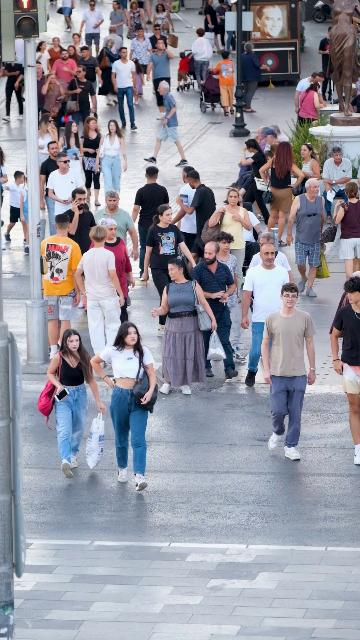person: (91, 322, 158, 491), (260, 283, 317, 460), (150, 257, 219, 395), (45, 329, 106, 479), (240, 241, 294, 386), (188, 241, 239, 379), (143, 203, 195, 337), (74, 226, 126, 354), (40, 215, 82, 358), (329, 278, 360, 465), (207, 187, 253, 304), (285, 178, 326, 299), (89, 218, 135, 325), (259, 141, 305, 247), (131, 166, 170, 282), (172, 171, 216, 265), (144, 81, 188, 167), (92, 190, 138, 262), (46, 152, 85, 236), (329, 181, 360, 281), (239, 138, 271, 223), (321, 146, 353, 224), (329, 271, 360, 350), (94, 119, 127, 193), (39, 141, 70, 217), (146, 40, 175, 120), (61, 187, 96, 253), (249, 232, 293, 284), (111, 47, 137, 131), (80, 116, 103, 206), (242, 42, 271, 113), (58, 120, 86, 190), (66, 65, 97, 126), (212, 231, 241, 296), (77, 46, 103, 118), (174, 166, 197, 247), (1, 171, 27, 242), (294, 71, 326, 126), (130, 26, 152, 105), (37, 113, 60, 181), (97, 39, 120, 106), (212, 51, 235, 117), (78, 0, 104, 58), (0, 61, 25, 121), (42, 73, 68, 130), (125, 1, 148, 56), (191, 28, 214, 82), (298, 81, 326, 124), (297, 142, 322, 188), (318, 26, 332, 103), (99, 25, 123, 67), (51, 49, 78, 86), (150, 4, 174, 43), (36, 63, 49, 127), (109, 0, 129, 39), (254, 127, 281, 154), (176, 52, 194, 92), (148, 23, 169, 55), (47, 37, 67, 70), (36, 41, 52, 76), (268, 124, 289, 143), (252, 127, 268, 151), (67, 45, 80, 68)
